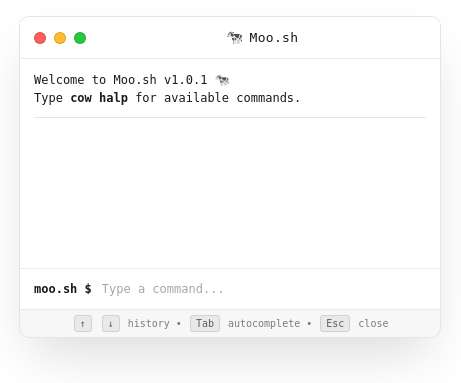
it: Cownsole › command execution › displays command in output
Type "ls" into the field with placeholder "Type a command..." at x=263, y=289, box top-left (100, 279), bottom-right (426, 299)
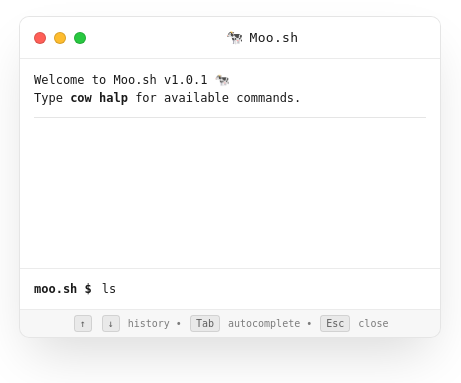
Submit the form with placeholder "Type a command...", box top-left (20, 268), bottom-right (440, 309)
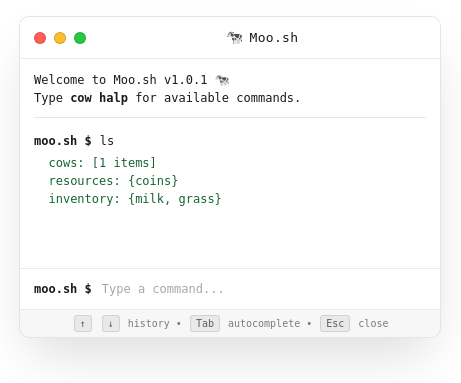
Expected: the text "ls" is shown, top-left (100, 132), bottom-right (114, 150)
